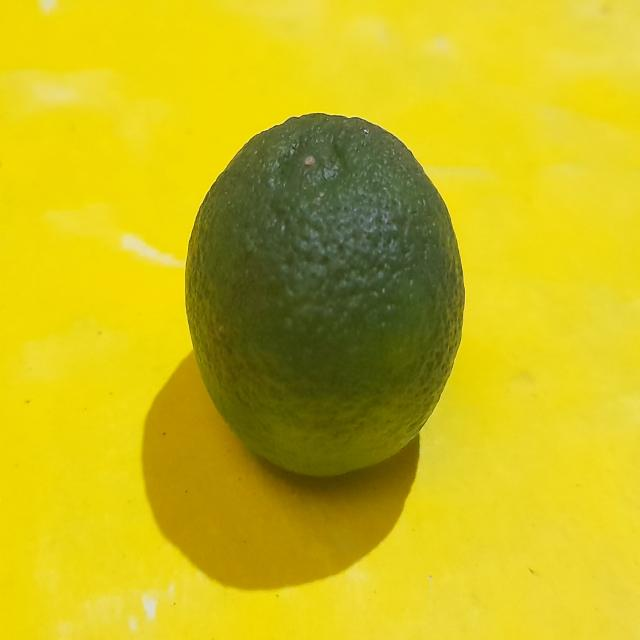heathy: (181, 107, 464, 480)
